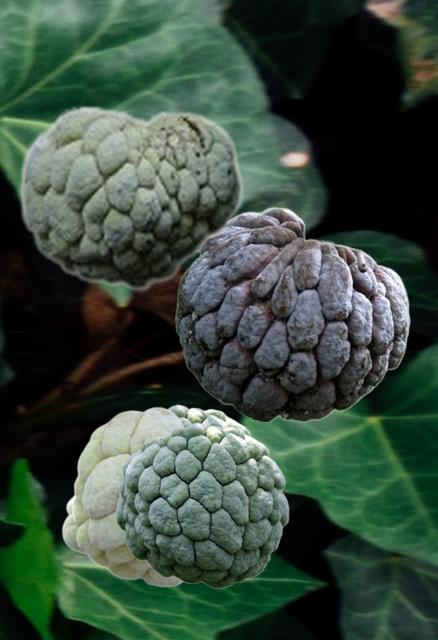atis: (175, 206, 409, 421), (18, 104, 243, 291), (115, 422, 288, 588), (61, 406, 184, 586), (169, 404, 251, 435)
